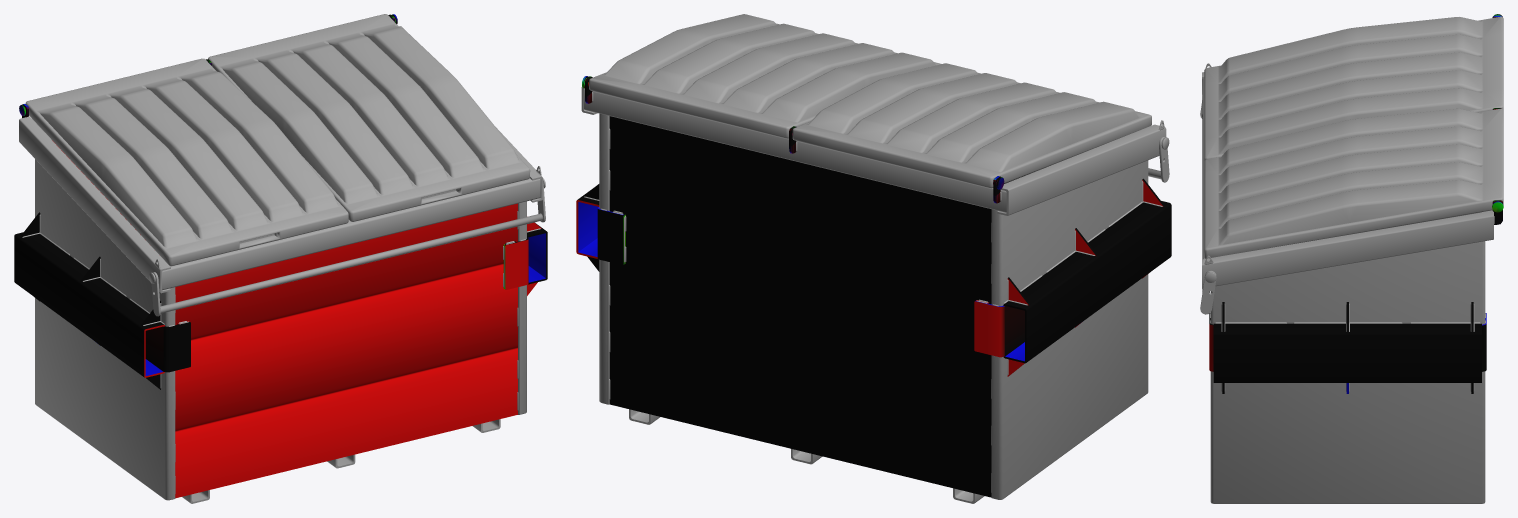
3 renders of one model, left to right at view 1: azimuth 30°, elevation 25°; view 2: azimuth 150°, elevation 25°; view 3: azimuth 270°, elevation 25°, orthographic. The views are drawn at different scales.
Parts seen in each view (by area): view 1: mesh; view 2: mesh; view 3: mesh.
Boxes of the visible parts, box(x1,y1,x2,y2) form: mesh: box(14, 14, 547, 503); mesh: box(576, 14, 1171, 503); mesh: box(1200, 14, 1503, 503).
Bounding box in the file's own units: 2 × 1.47 × 1.26.
